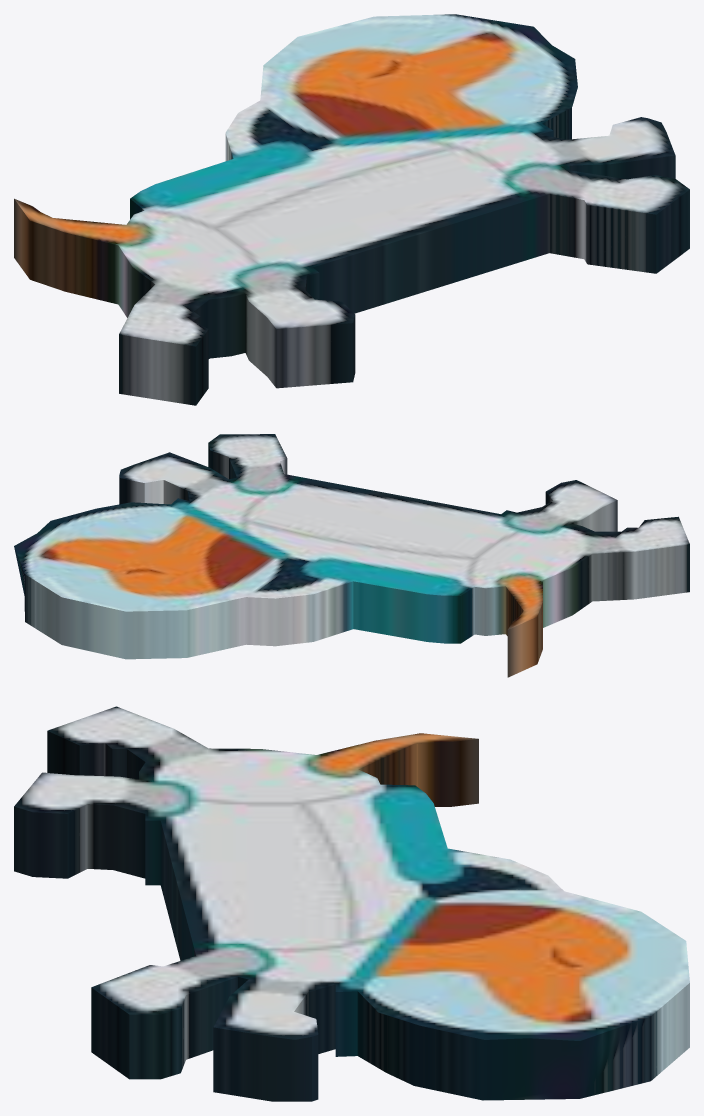
The model's file is flat_doge.fbx.
3 views of the same model, one above another, from view 1: azimuth 30°, elevation 25°; view 2: azimuth 150°, elevation 25°; view 3: azimuth 270°, elevation 25° (orthographic). The views are drawn at different scales.
Visible parts, largest first — view 1: Line001; view 2: Line001; view 3: Line001.
Boxes of the visible parts, box(x1,y1,x2,y2) form: Line001: box(14, 14, 689, 405); Line001: box(14, 434, 689, 677); Line001: box(14, 706, 689, 1101).
Bounding box in the file's own units: 135 × 12.22 × 116.
